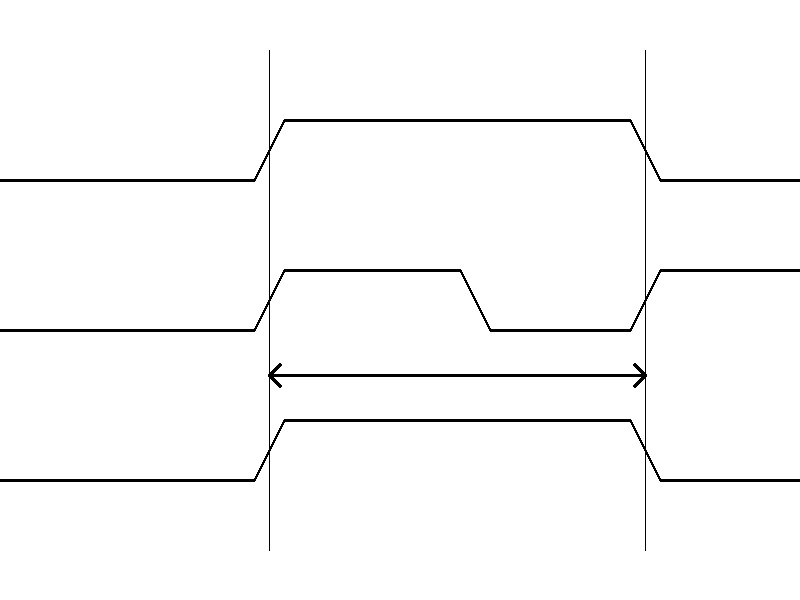double_arrow: (269, 360, 645, 390)
